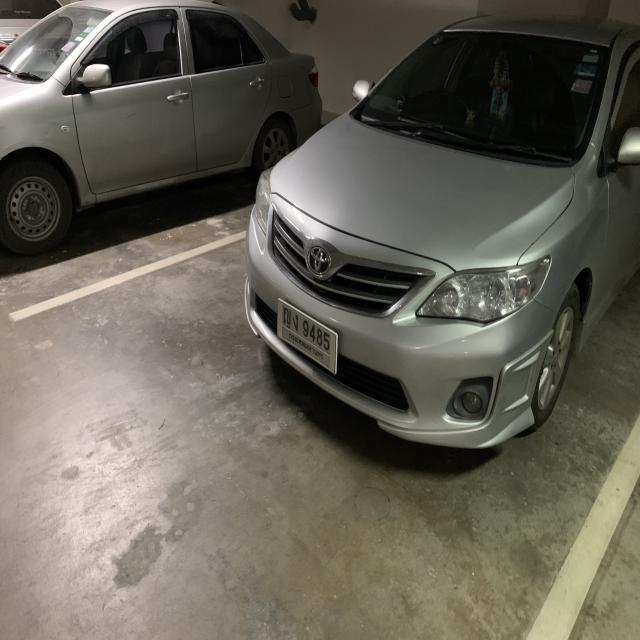license_plate: (275, 292, 340, 381)
